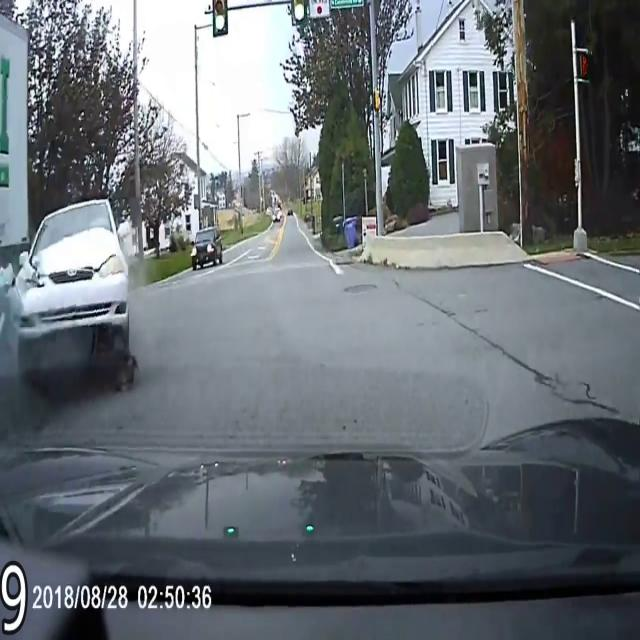accident: (15, 210, 157, 404)
